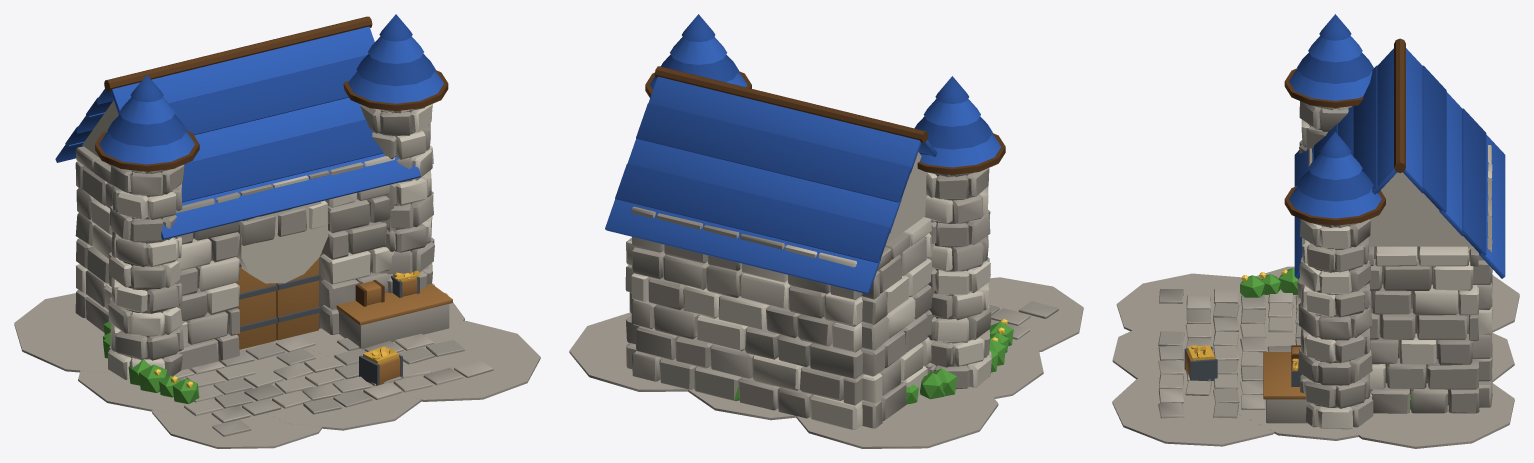
The model's file is magazyn_poz16.glb.
3 views of the same model, side by side, from view 1: azimuth 30°, elevation 25°; view 2: azimuth 150°, elevation 25°; view 3: azimuth 270°, elevation 25° (orthographic). The views are drawn at different scales.
Visible parts, largest first — view 1: magazyn_poz16; view 2: magazyn_poz16; view 3: magazyn_poz16.
Boxes of the visible parts, <box> form: magazyn_poz16: <box>14,14,540,448</box>; magazyn_poz16: <box>569,14,1083,448</box>; magazyn_poz16: <box>1112,14,1519,448</box>.
Size of the model in its own units: 8.83 by 6.47 by 8.2.
